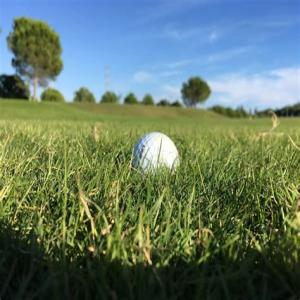Golf: (136, 130, 180, 173)
